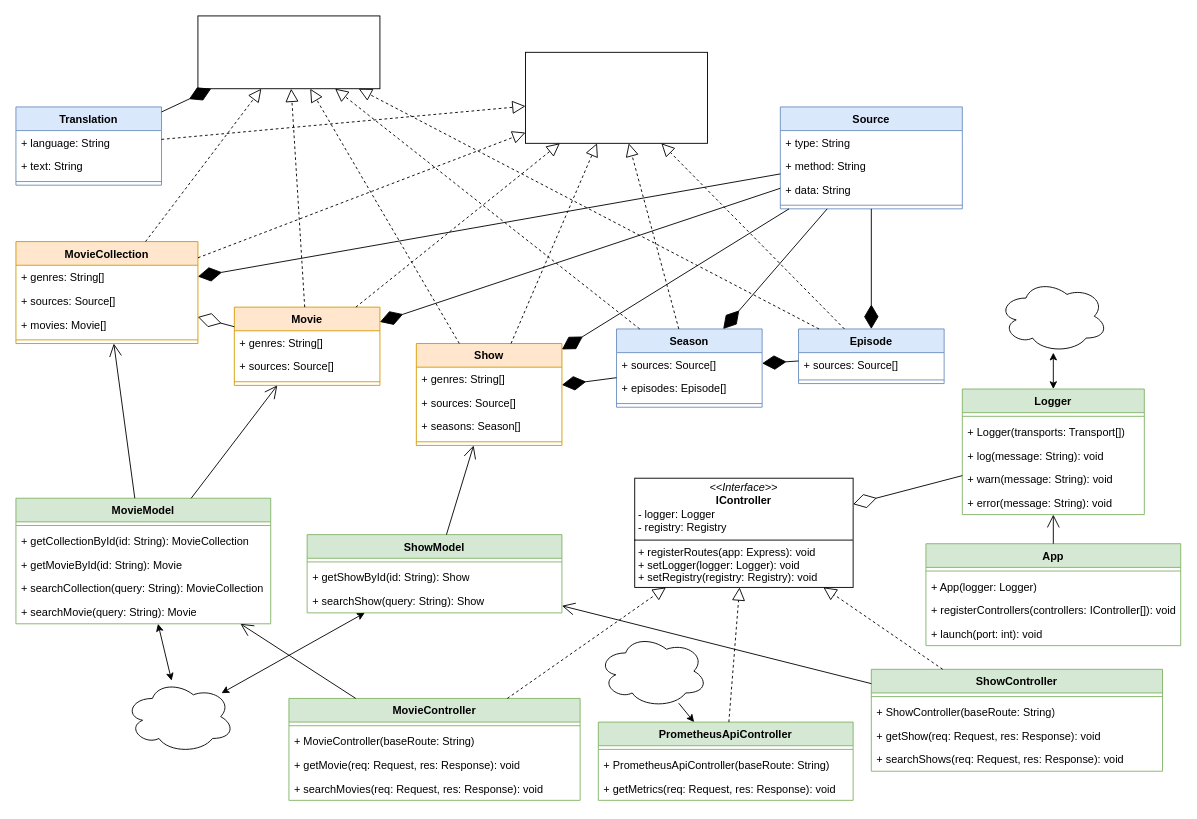
This 1197x819 diagram has some shape labels left out. Here are the shapes that lost their labels. From the top down, the centre of each, then its label:
At (x=288, y=52): "<<Interface>> IMedia + title: Translation[] + description: Translation[]".
At (x=616, y=97): "<<Interface>> IInitializable<T> + // + T() + T(data: Object)".
At (x=1053, y=316): "Loki".
At (x=652, y=671): "Prometheus".
At (x=179, y=716): "MongoDB".
